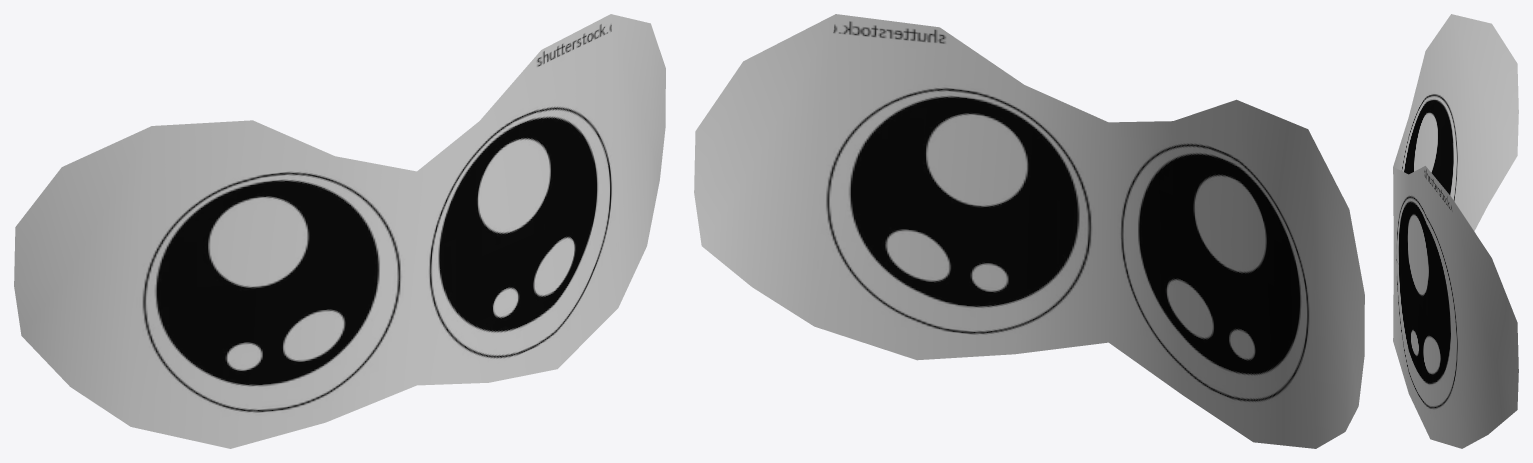
Rendered from chatbot_3.glb.
3 renders of one model, left to right at view 1: azimuth 30°, elevation 25°; view 2: azimuth 150°, elevation 25°; view 3: azimuth 270°, elevation 25°, orthographic. The views are drawn at different scales.
Visible parts, largest first — view 1: socket.001; view 2: socket.001; view 3: socket.001.
Boxes of the visible parts, x1,y1,x2,y2 form: socket.001: (14,14,665,448); socket.001: (694,14,1364,448); socket.001: (1393,14,1518,448).
Bounding box in the file's own units: 0.726 × 0.3511 × 0.1488.
1 material, 1 textured.
